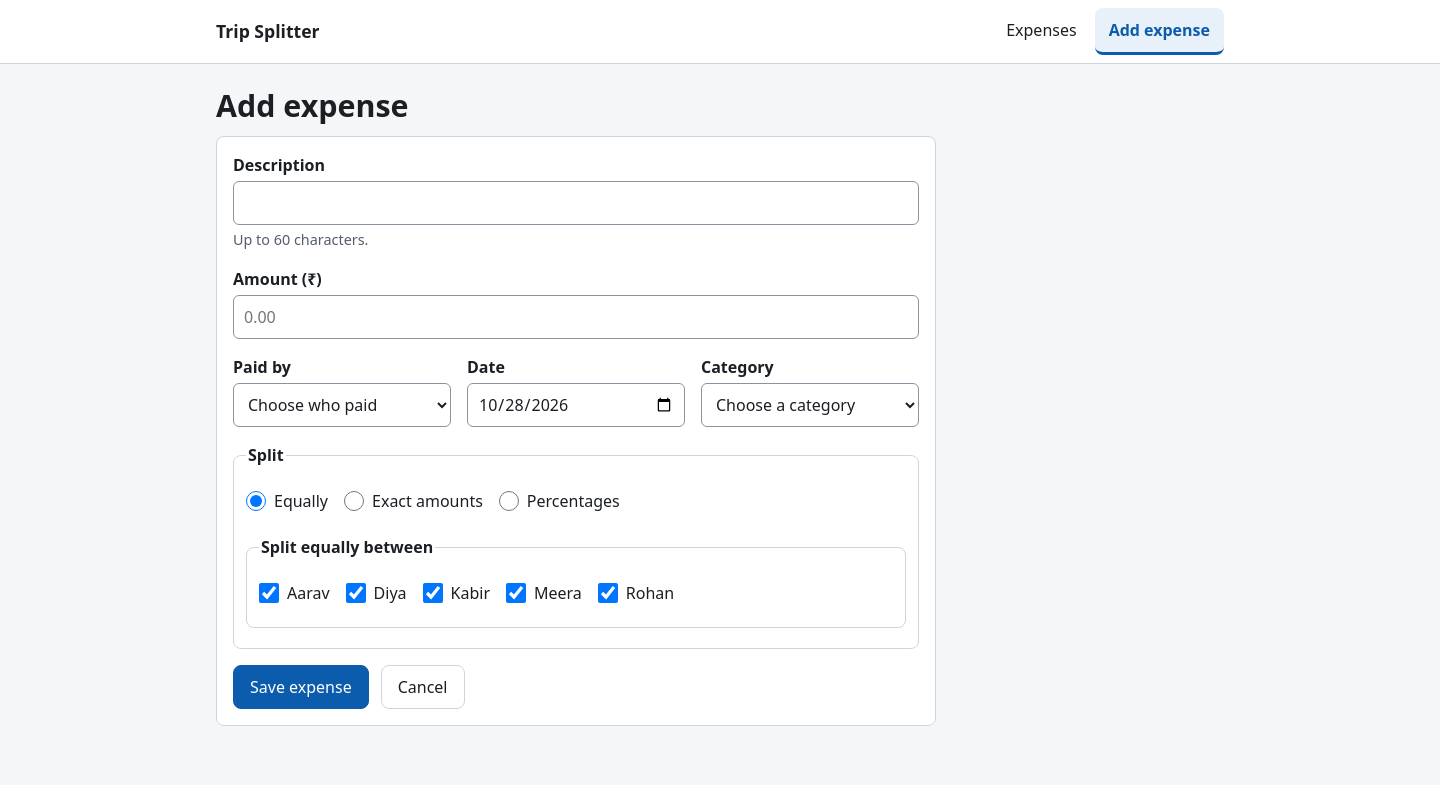
it: Add expense form: invalid input › clears an error as soon as the field is fixed
Click the button "Save expense".
click(301, 687)  # box [233,665,369,709]
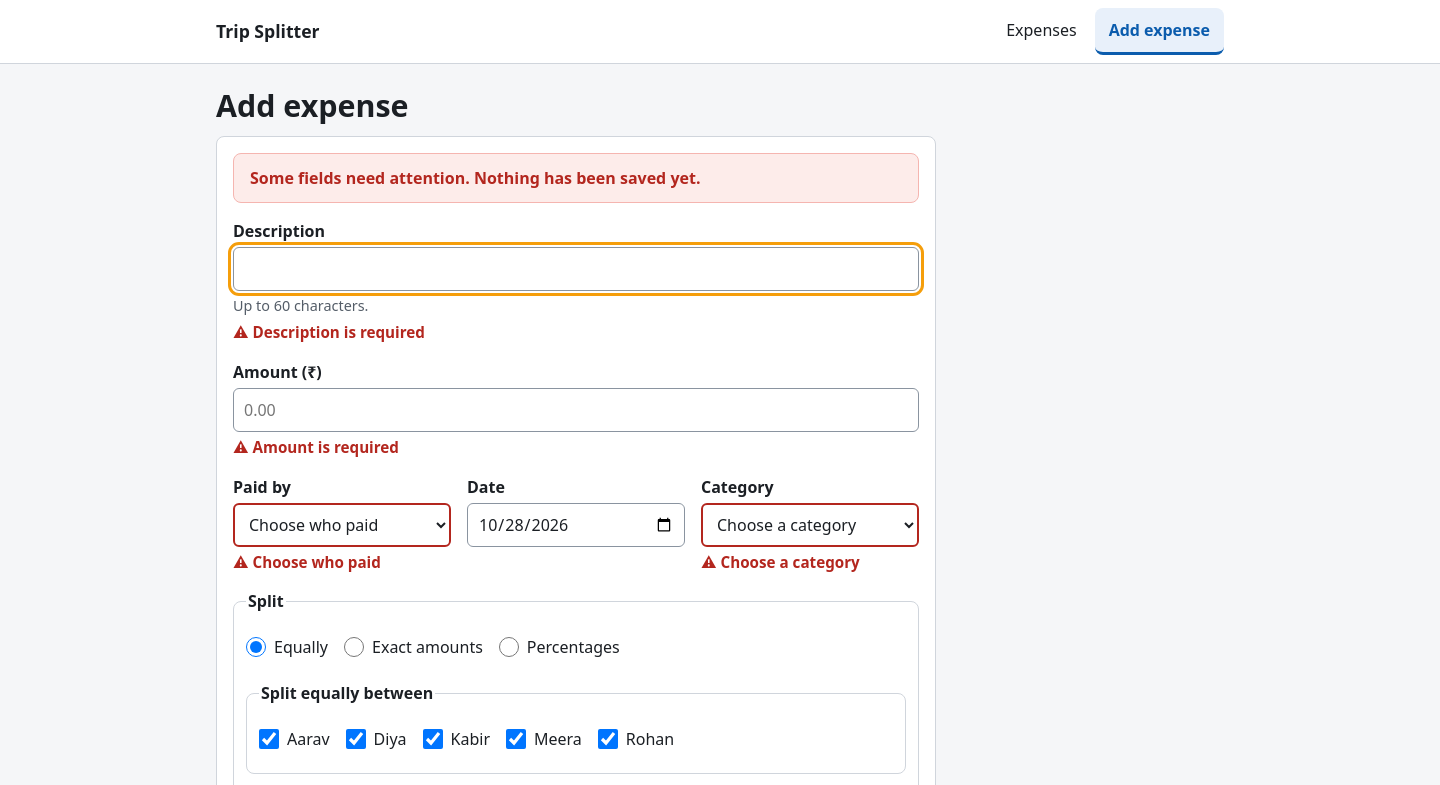
expect the text "Description is required" is shown: met, box [252,322,425,342]
Type "Ferry tickets" into the field labelled "Description".
click(576, 270); type("Ferry tickets")  # box [233,248,919,292]
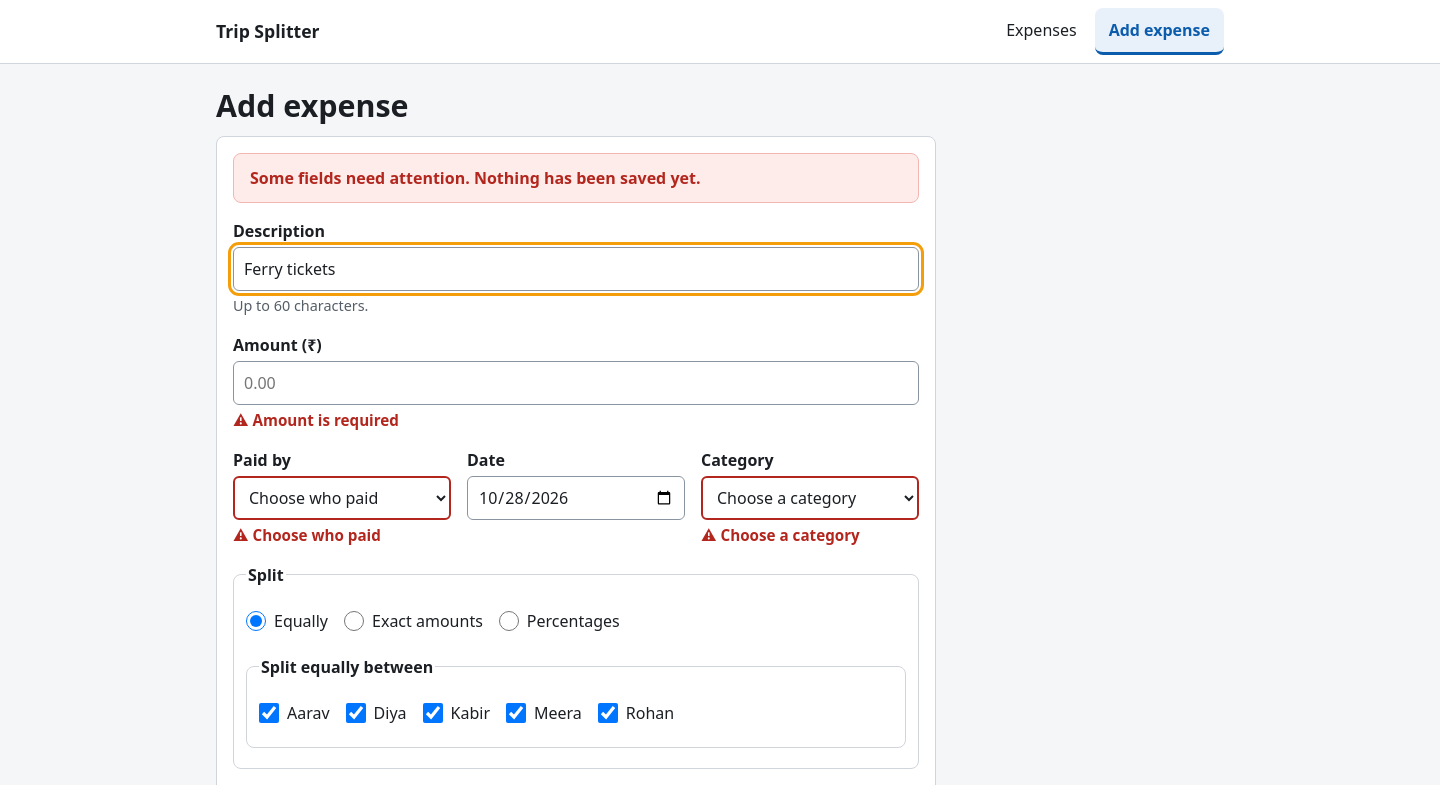
expect the text "Description is required" is gone: met
